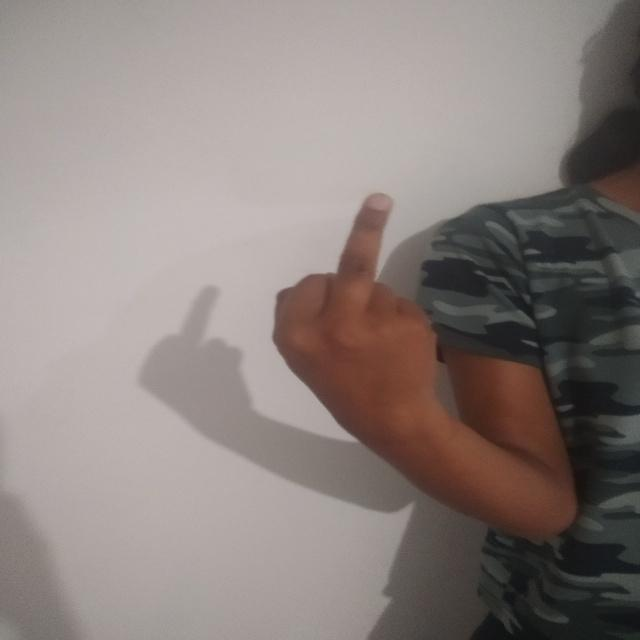Middle Finger: (261, 185, 462, 435)
